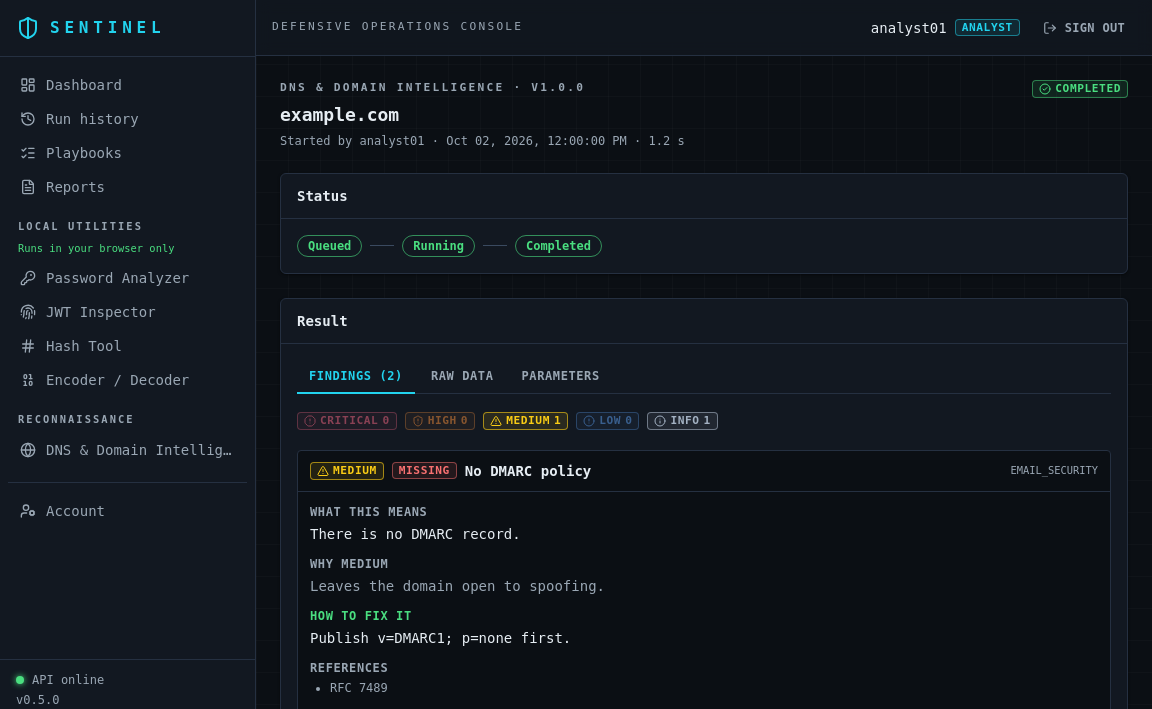
Scenario: watching a run › explains each finding and keeps raw data as escaped text
Expected: the text "There is no DMARC record." is shown, [310,526,521,542]
Expected: the text "Leaves the domain open to spoofing." is shown, [310,578,605,594]
Click the tab "Raw data".
click(462, 377)  # box [419,360,506,394]
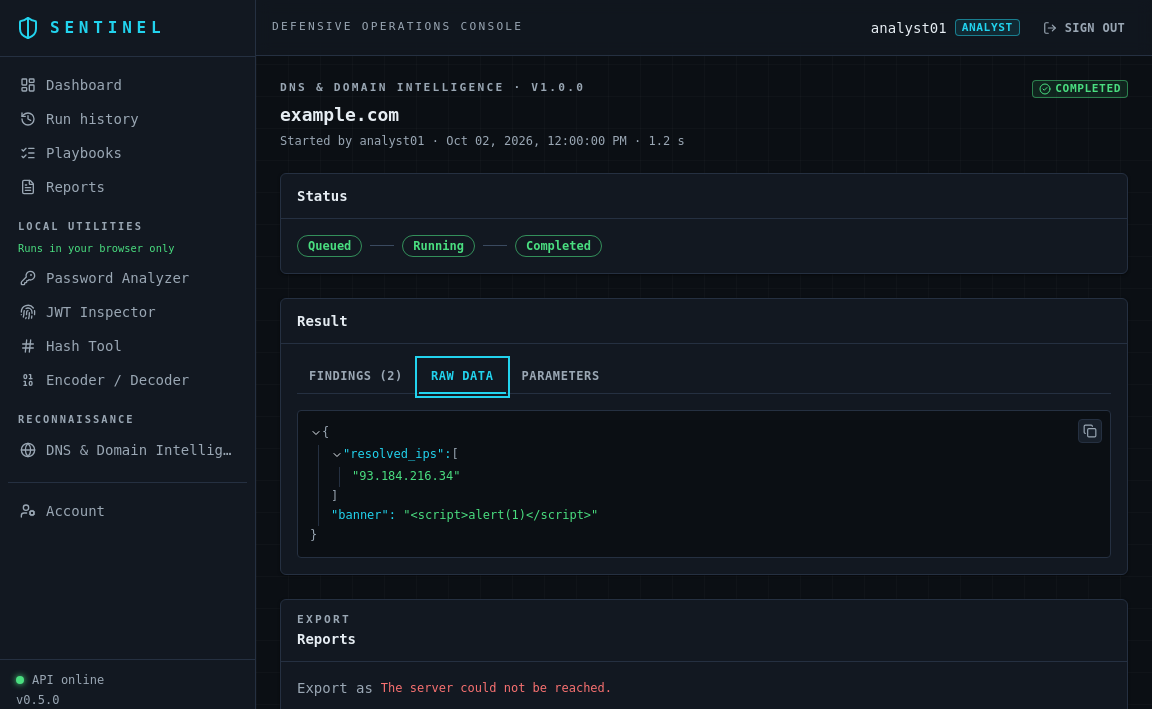
Expected: the element named "Raw tool output" shows "<script>", [403,508,598,522]
